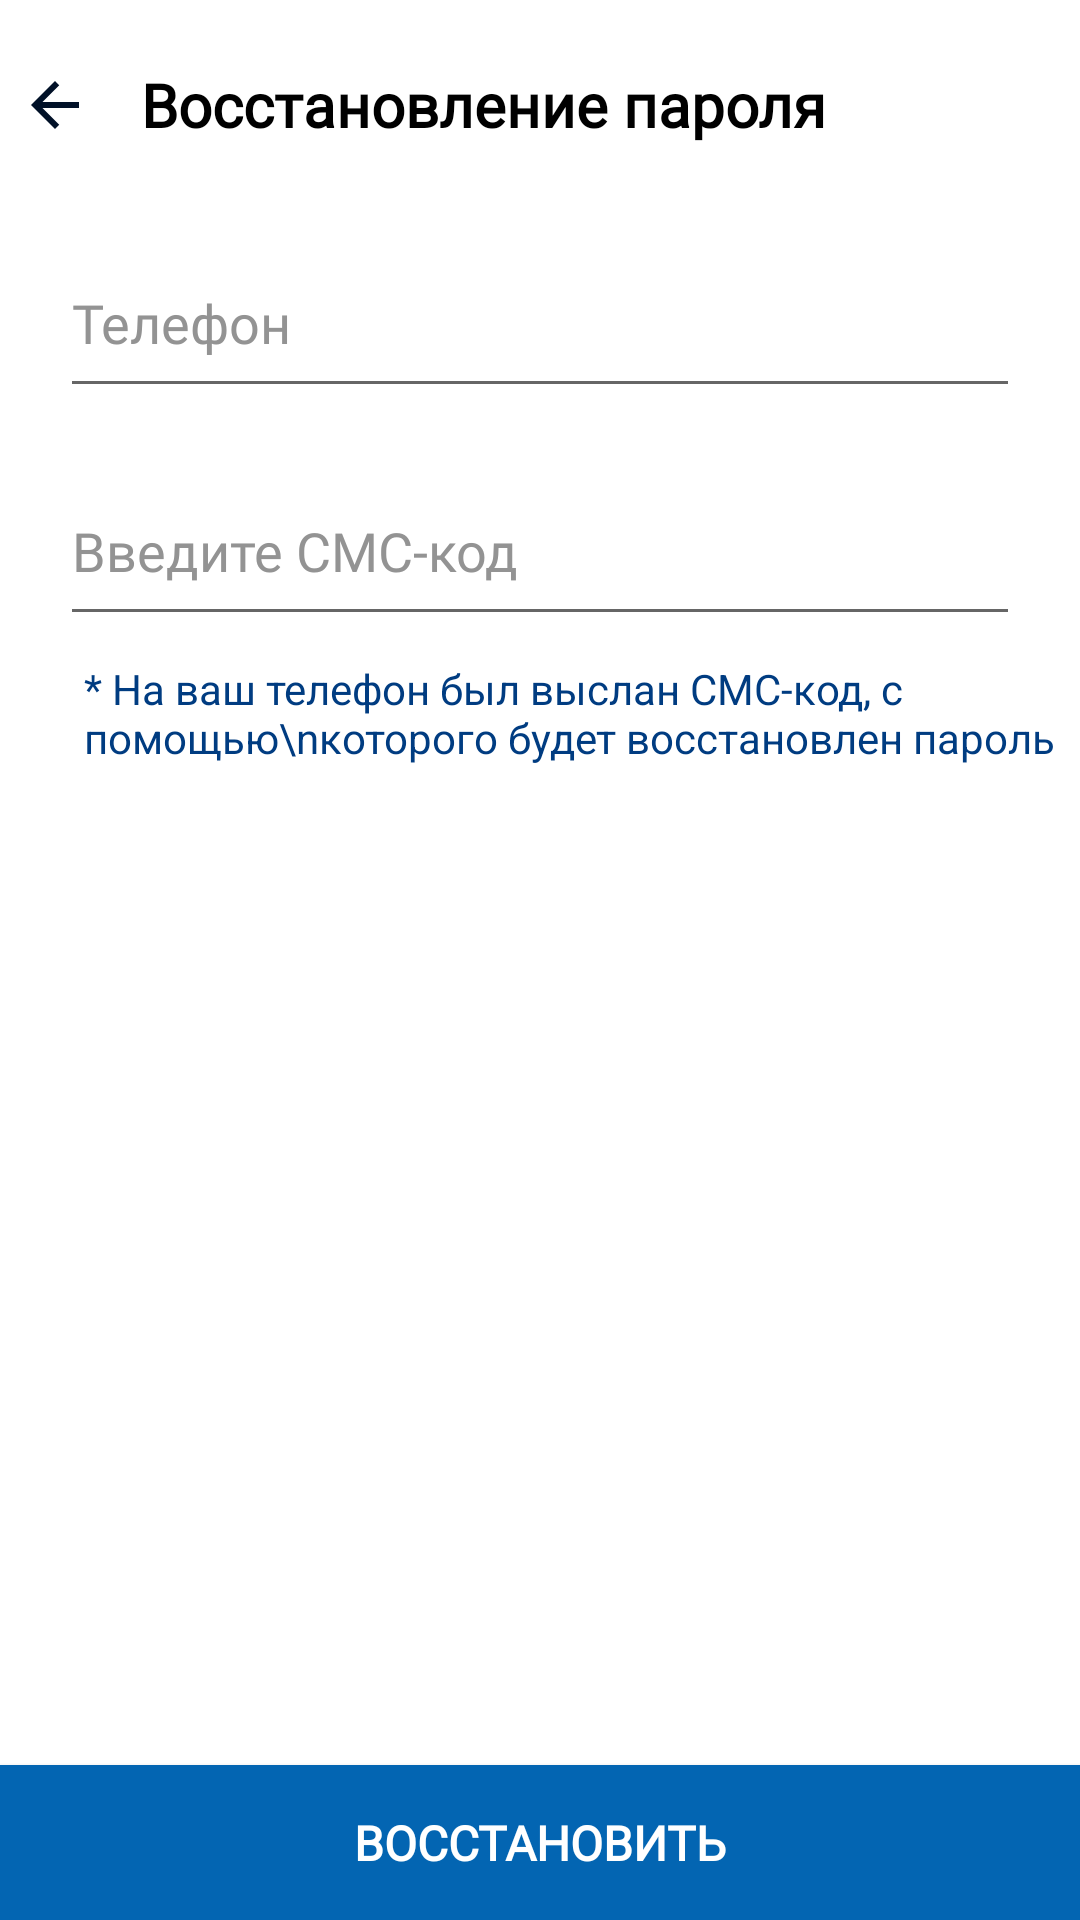

Point at icon controls on the screen. Image size 1080x1920, points as point (x, y).
arrow back: point (55, 105)
